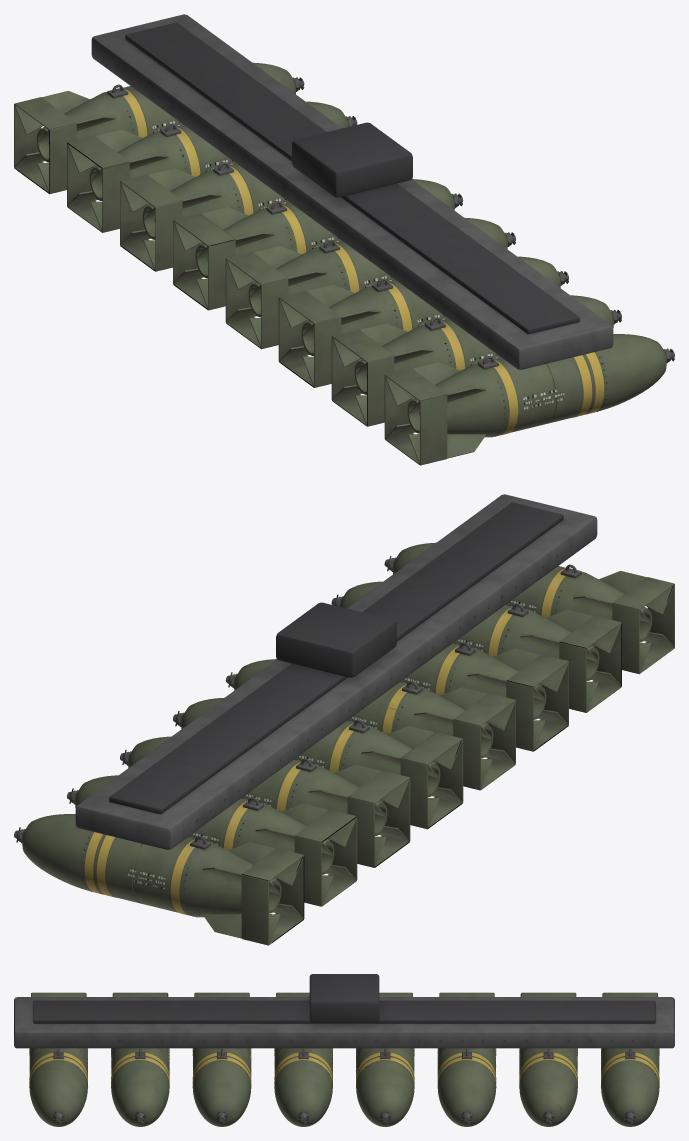
Rendered from bombs_evo.glb.
3 views of the same model, one above another, from view 1: azimuth 30°, elevation 25°; view 2: azimuth 150°, elevation 25°; view 3: azimuth 270°, elevation 25° (orthographic). The views are drawn at different scales.
Visible parts, largest first — view 1: bombs_evo; view 2: bombs_evo; view 3: bombs_evo.
Part boxes in pixels (bbox=[...]): bombs_evo: bbox=[14, 14, 674, 465]; bombs_evo: bbox=[14, 494, 674, 945]; bombs_evo: bbox=[14, 974, 674, 1126].
Size of the model in its own units: 0.62 by 0.3058 by 1.7.
Materials: 5 (5 with a texture image).
